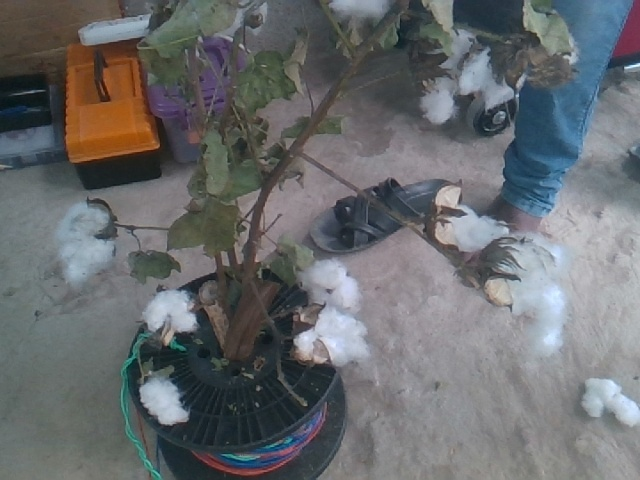cotton: (486, 232, 566, 313), (56, 200, 110, 286), (451, 200, 510, 252), (460, 51, 514, 105), (420, 59, 456, 121), (142, 292, 194, 333), (441, 27, 486, 74)
